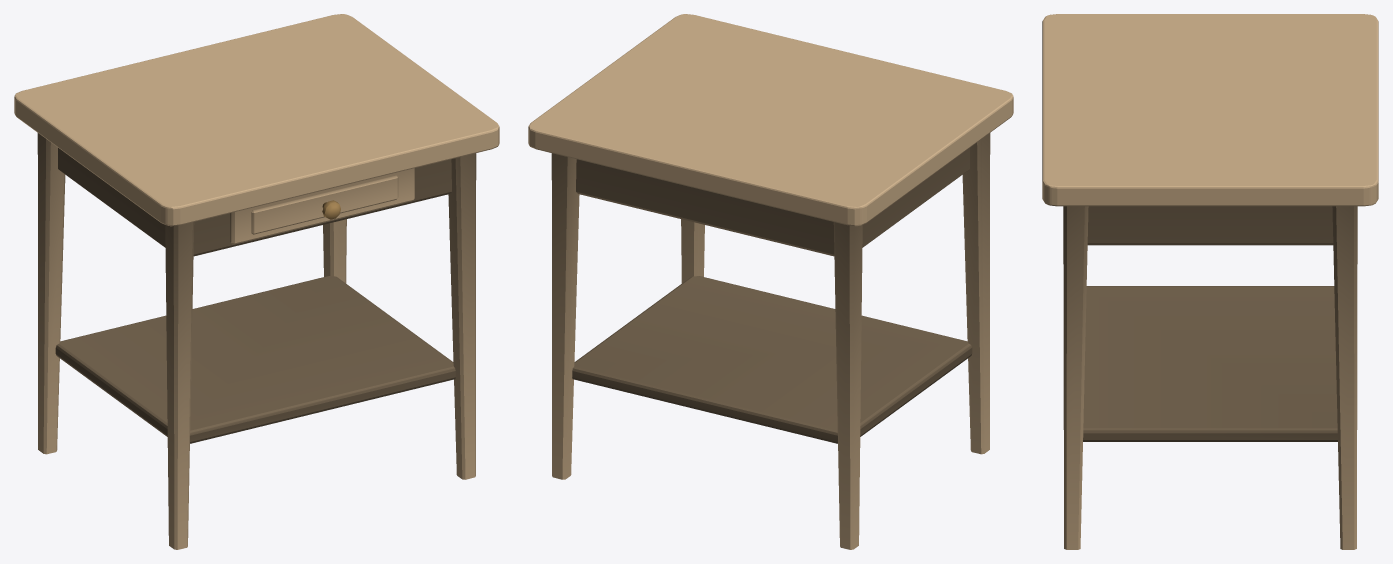
The model's file is sideTable.glb.
3 views of the same model, side by side, from view 1: azimuth 30°, elevation 25°; view 2: azimuth 150°, elevation 25°; view 3: azimuth 270°, elevation 25° (orthographic). The views are drawn at different scales.
Parts seen in each view (by area): view 1: sideTable; view 2: sideTable; view 3: sideTable.
Part boxes in pixels (x1,y1,x2,y2): sideTable: (14,14,499,549); sideTable: (528,14,1013,549); sideTable: (1042,14,1378,549).
Bounding box in the file's own units: 0.55 × 0.5502 × 0.45.
